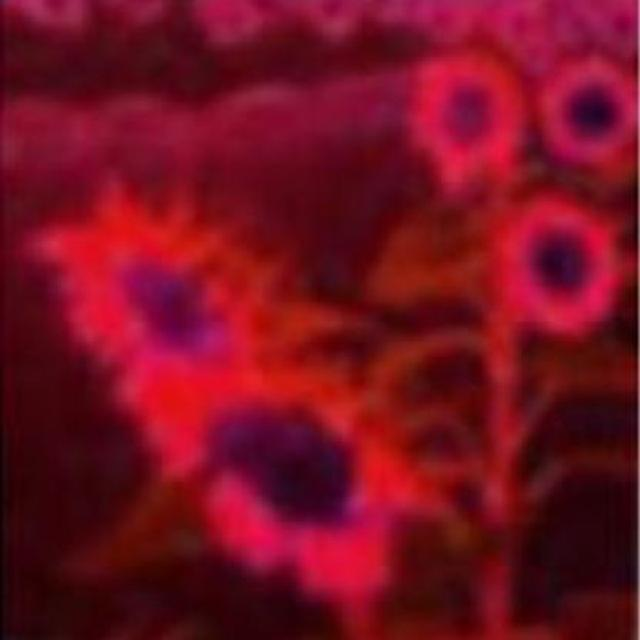sunflower: (125, 360, 446, 640), (502, 200, 620, 334), (538, 54, 638, 183)
